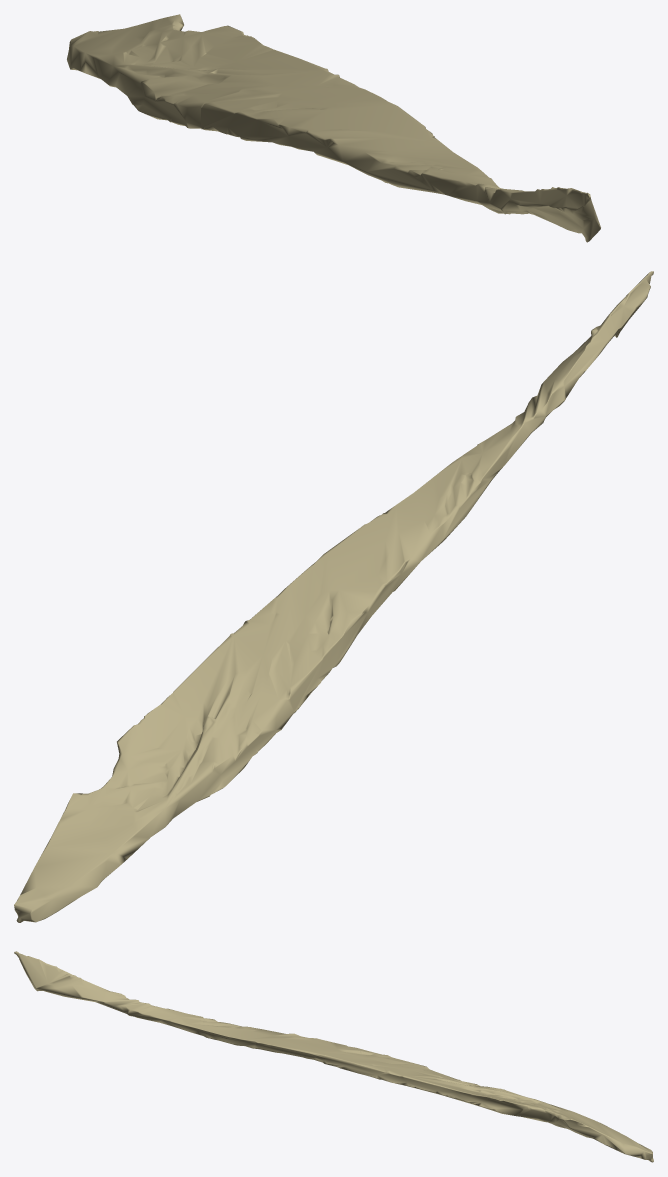
3 renders of one model, top to bottom at view 1: azimuth 30°, elevation 25°; view 2: azimuth 150°, elevation 25°; view 3: azimuth 270°, elevation 25°, orthographic. The views are drawn at different scales.
Parts seen in each view (by area): view 1: 左侧前臂骨间膜; view 2: 左侧前臂骨间膜; view 3: 左侧前臂骨间膜.
Part boxes in pixels (x1,y1,x2,y2): 左侧前臂骨间膜: (67,14,600,242); 左侧前臂骨间膜: (14,271,653,922); 左侧前臂骨间膜: (14,951,653,1162).
Bounding box in the file's own units: 0.0331 × 0.0733 × 0.2379.
